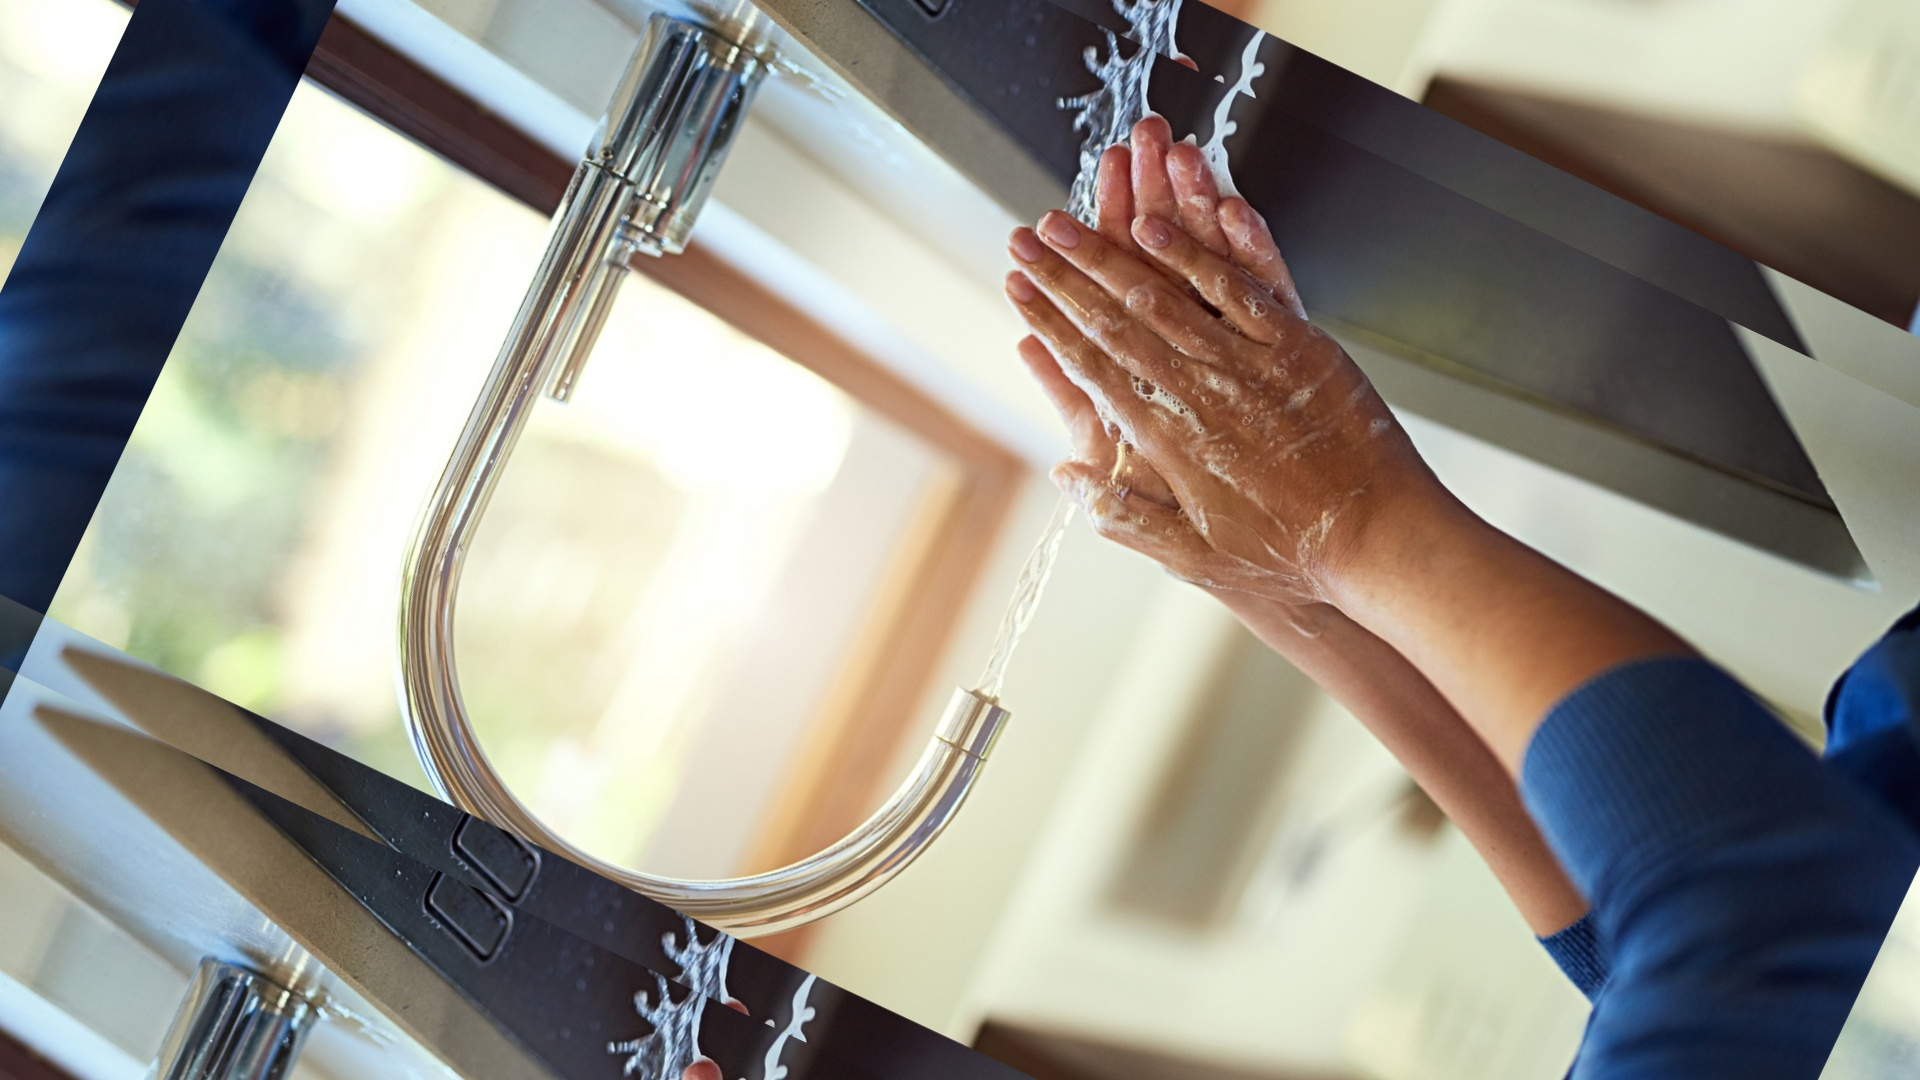washing hand: (440, 0, 1515, 1067)
